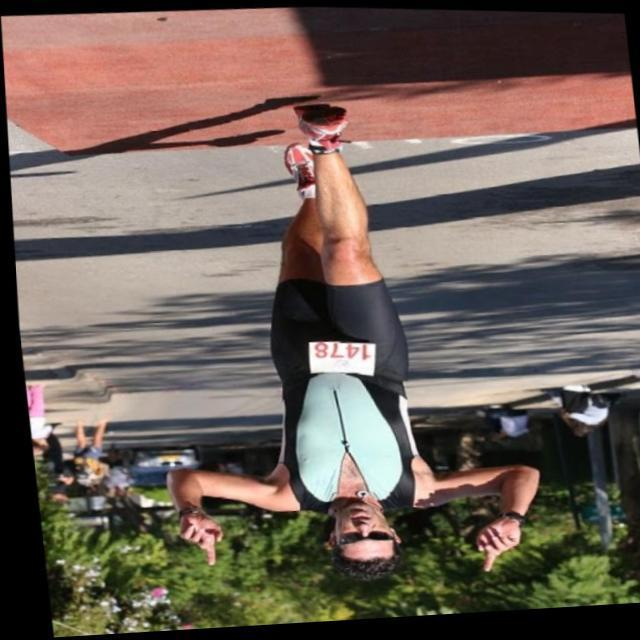dorsal: (298, 330, 377, 383)
